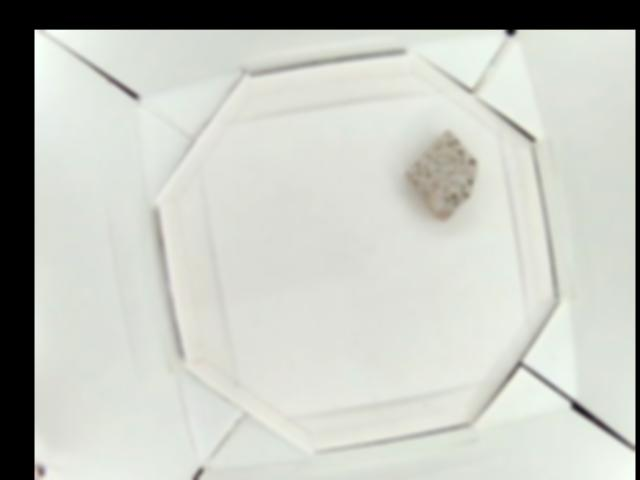China: (406, 130, 477, 222)
